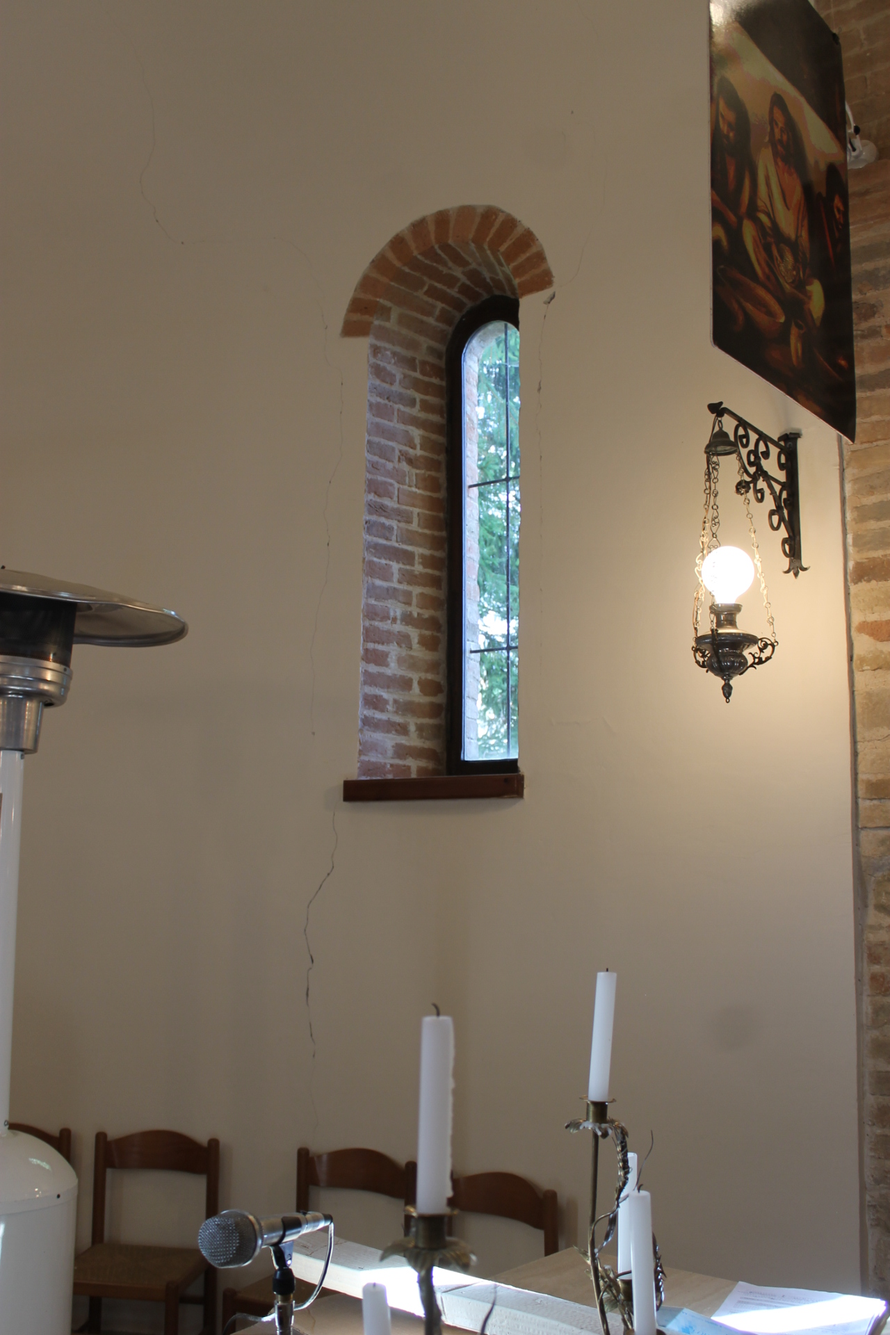Crack: (72, 29, 413, 1274)
